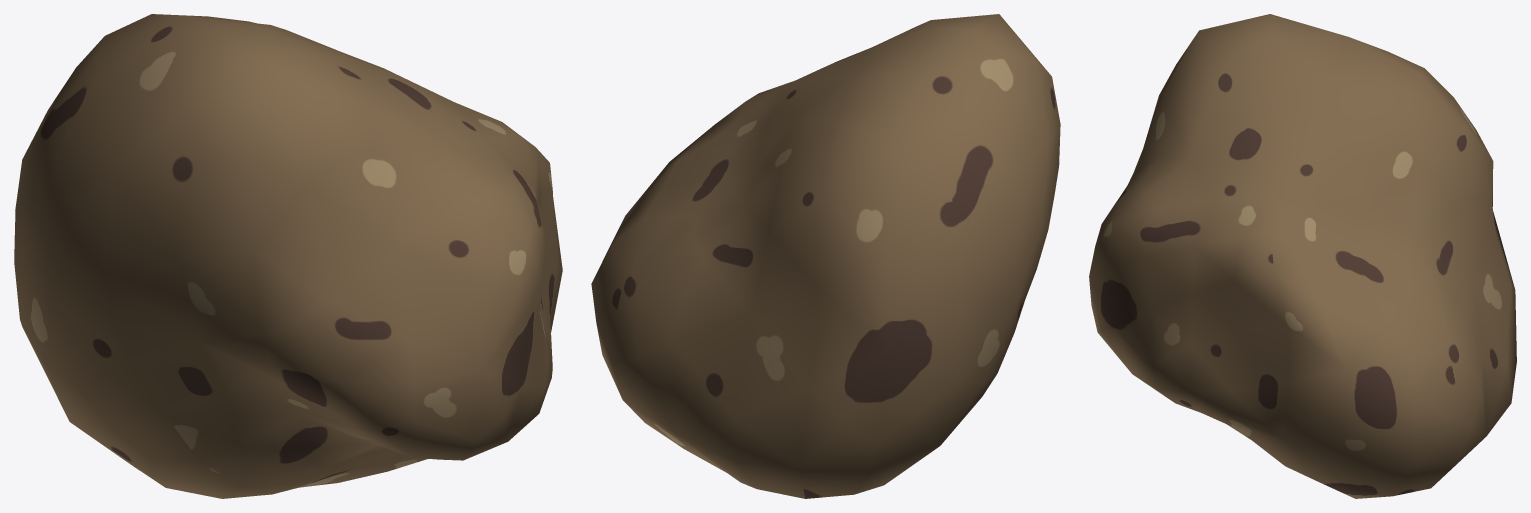
File: Rock03.fbx
The picture shows the model from 3 angles, left to right: view 1: azimuth 30°, elevation 25°; view 2: azimuth 150°, elevation 25°; view 3: azimuth 270°, elevation 25°; orthographic projection. The views are drawn at different scales.
Parts seen in each view (by area): view 1: Icosphere.002; view 2: Icosphere.002; view 3: Icosphere.002.
Part boxes in pixels (x1=…): Icosphere.002: x1=14, y1=14, x2=562, y2=498; Icosphere.002: x1=591, y1=14, x2=1060, y2=498; Icosphere.002: x1=1089, y1=14, x2=1516, y2=498.
Bounding box in the file's own units: 0.2674 × 0.2696 × 0.2595.
